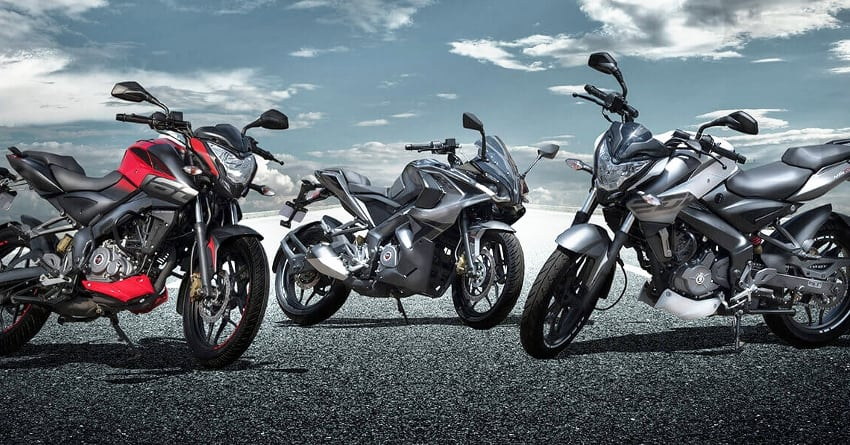bike: (536, 50, 845, 371), (4, 90, 283, 361), (268, 107, 554, 332)
